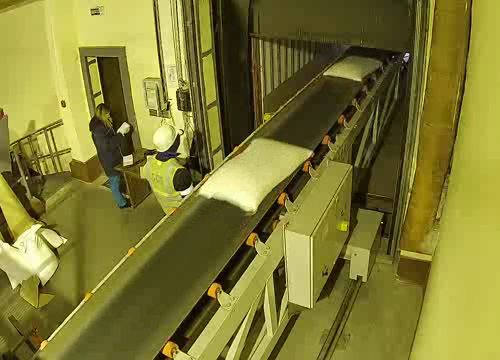bag: (195, 132, 319, 218), (318, 51, 387, 87)
